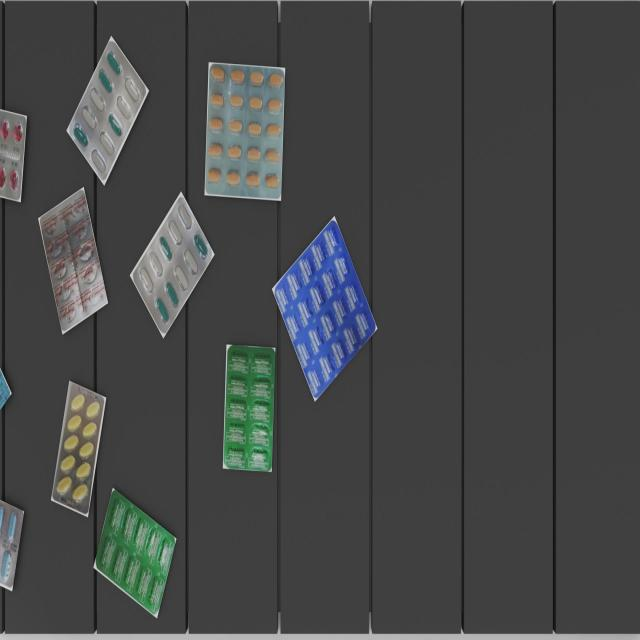blister: (275, 217, 378, 400), (132, 198, 213, 345), (70, 42, 146, 188), (205, 62, 284, 202), (39, 185, 109, 335), (97, 496, 177, 609), (52, 382, 106, 516), (224, 342, 276, 476)
